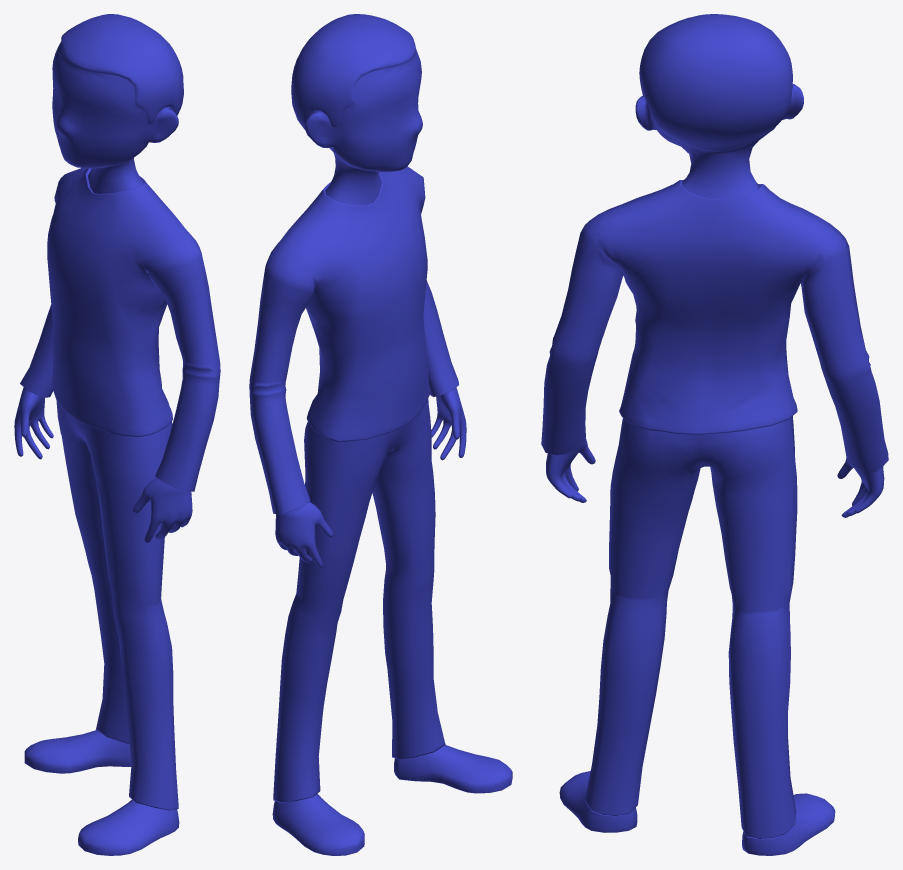
The model's file is boyfbx.fbx.
3 views of the same model, side by side, from view 1: azimuth 30°, elevation 25°; view 2: azimuth 150°, elevation 25°; view 3: azimuth 270°, elevation 25° (orthographic). The views are drawn at different scales.
Parts seen in each view (by area): view 1: mesh_id21; view 2: mesh_id21; view 3: mesh_id21.
Part boxes in pixels (x1,y1,x2,y2): mesh_id21: (14,14,220,855); mesh_id21: (249,14,512,855); mesh_id21: (541,14,888,855).
Size of the model in its own units: 42.07 by 211 by 82.11.
1 material, 1 textured.
